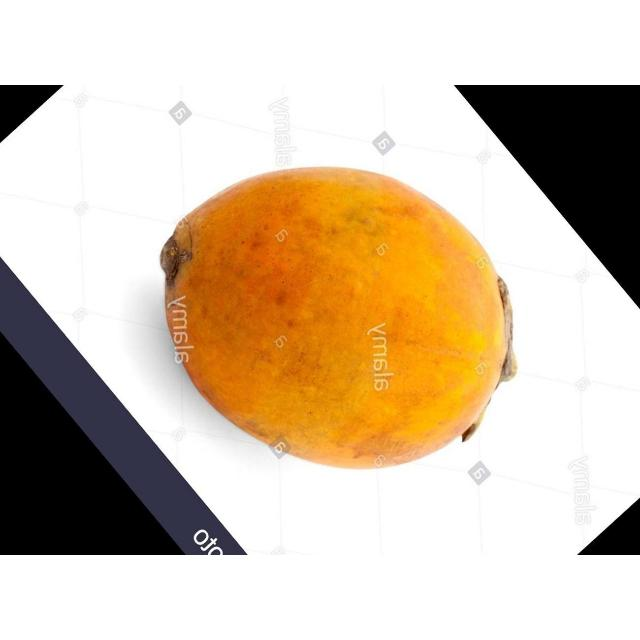good: (158, 167, 512, 472)
